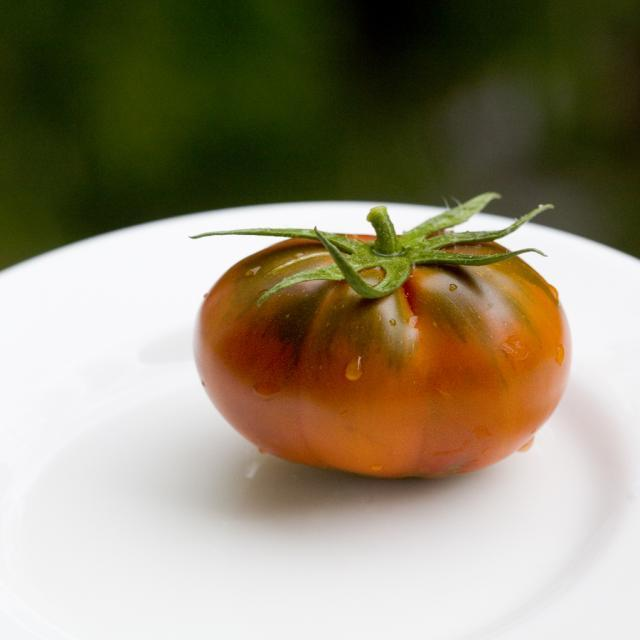Tomato: (185, 200, 575, 483)
